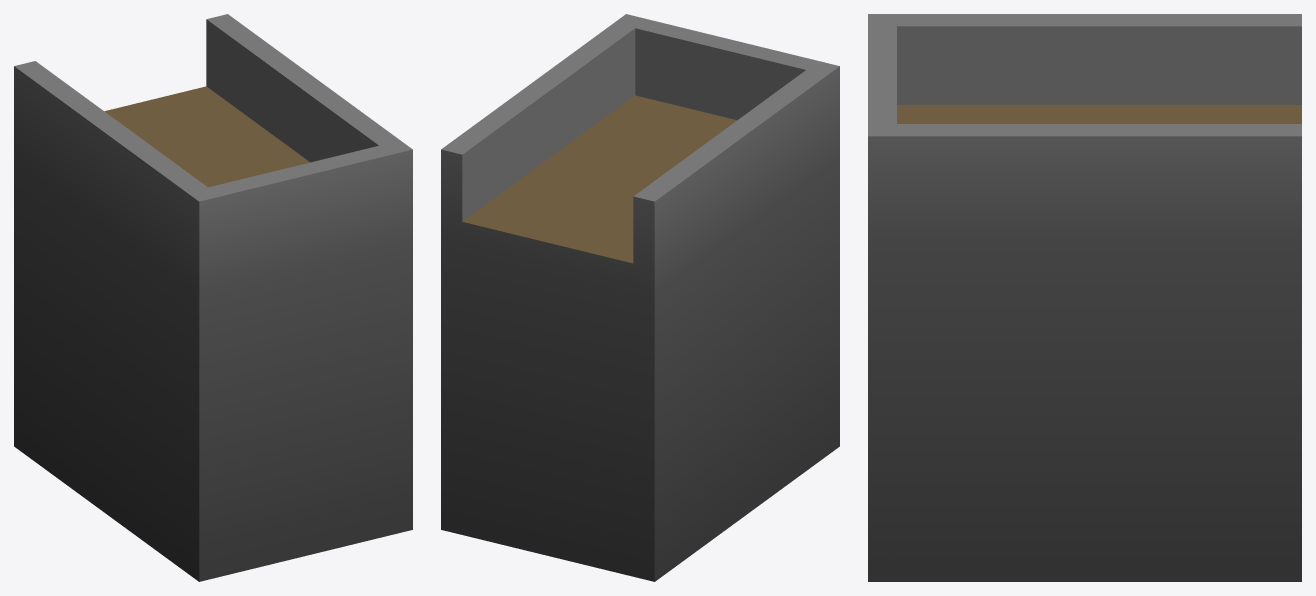
The model's file is end.FBX.
3 renders of one model, left to right at view 1: azimuth 30°, elevation 25°; view 2: azimuth 150°, elevation 25°; view 3: azimuth 270°, elevation 25°, orthographic. The views are drawn at different scales.
Parts seen in each view (by area): view 1: Box005; view 2: Box005; view 3: Box005.
Boxes of the visible parts, x1,y1,x2,y2 form: Box005: (14,14,412,581); Box005: (441,14,839,581); Box005: (868,14,1301,581).
Size of the model in its own units: 50 by 85 by 75.
